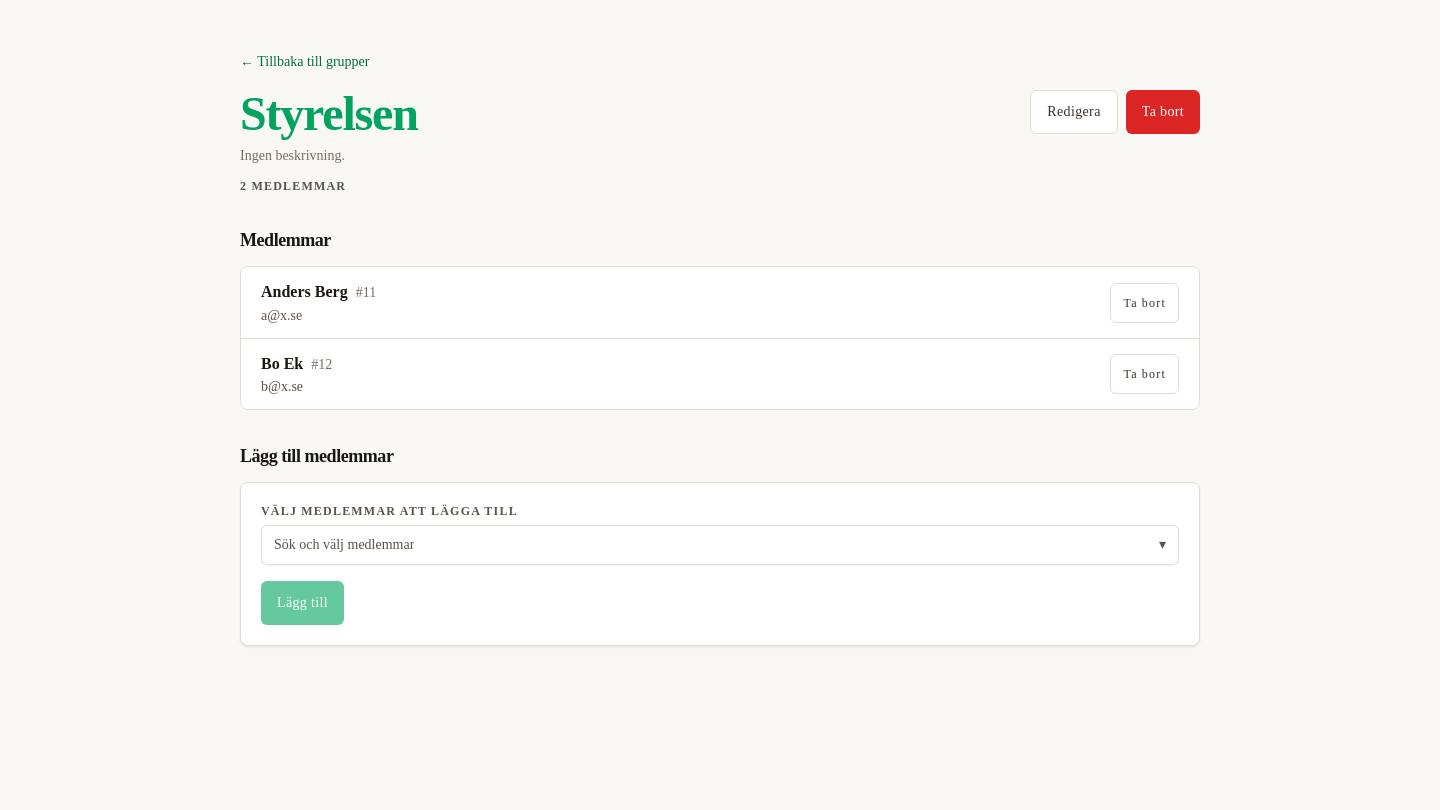
Scenario: GroupDetail confirmations › confirms before removing a member
The image size is (1440, 810).
Click the button with aria-label "Ta bort Bo Ek ur gruppen" at (1145, 374), box [1110,354,1179,394]
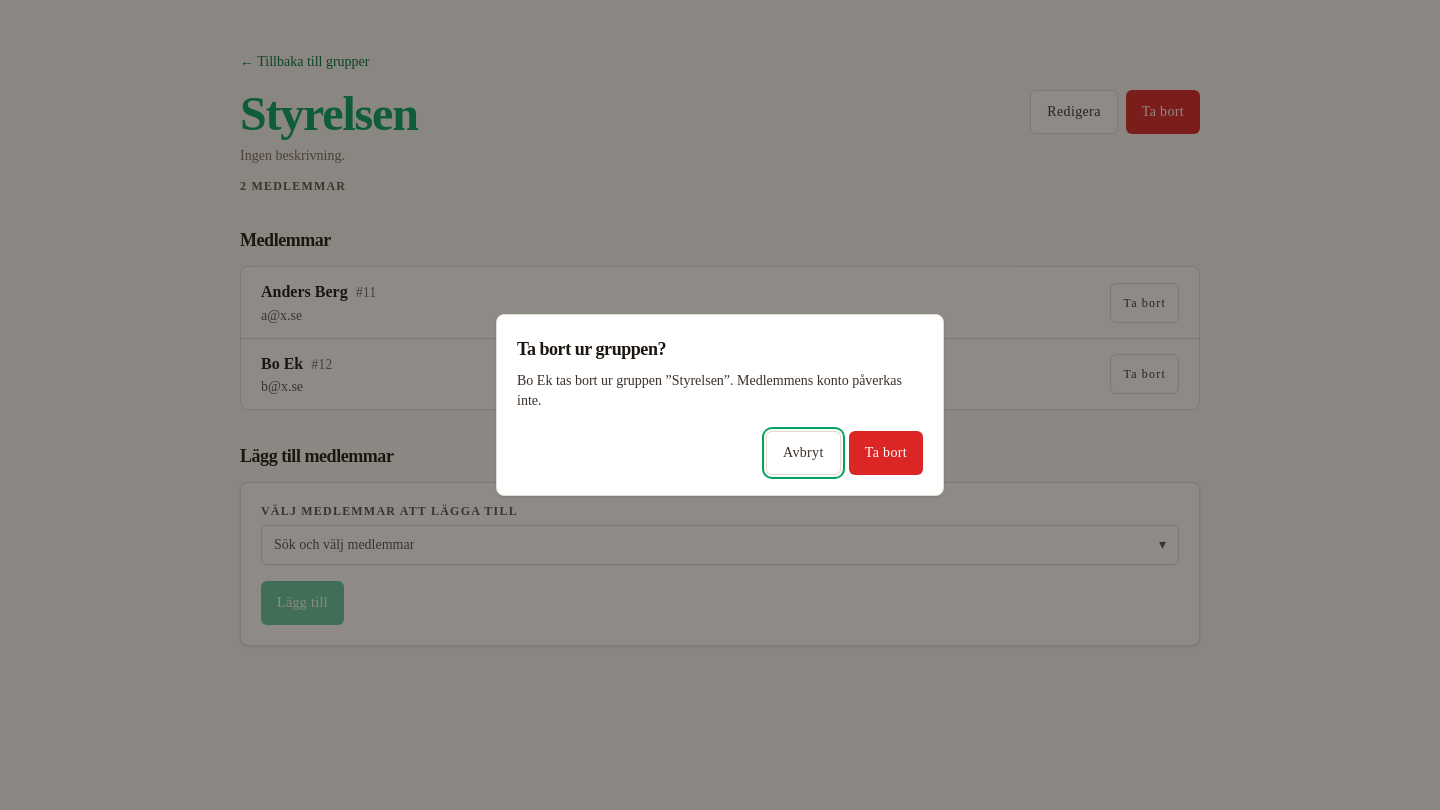
Result: the dialog "Ta bort ur gruppen?" shows "Bo Ek tas bort ur gruppen ”Styrelsen”" at [517,373,902,408]
Click the button "Ta bort" at (886, 453), box [849,431,923,475]
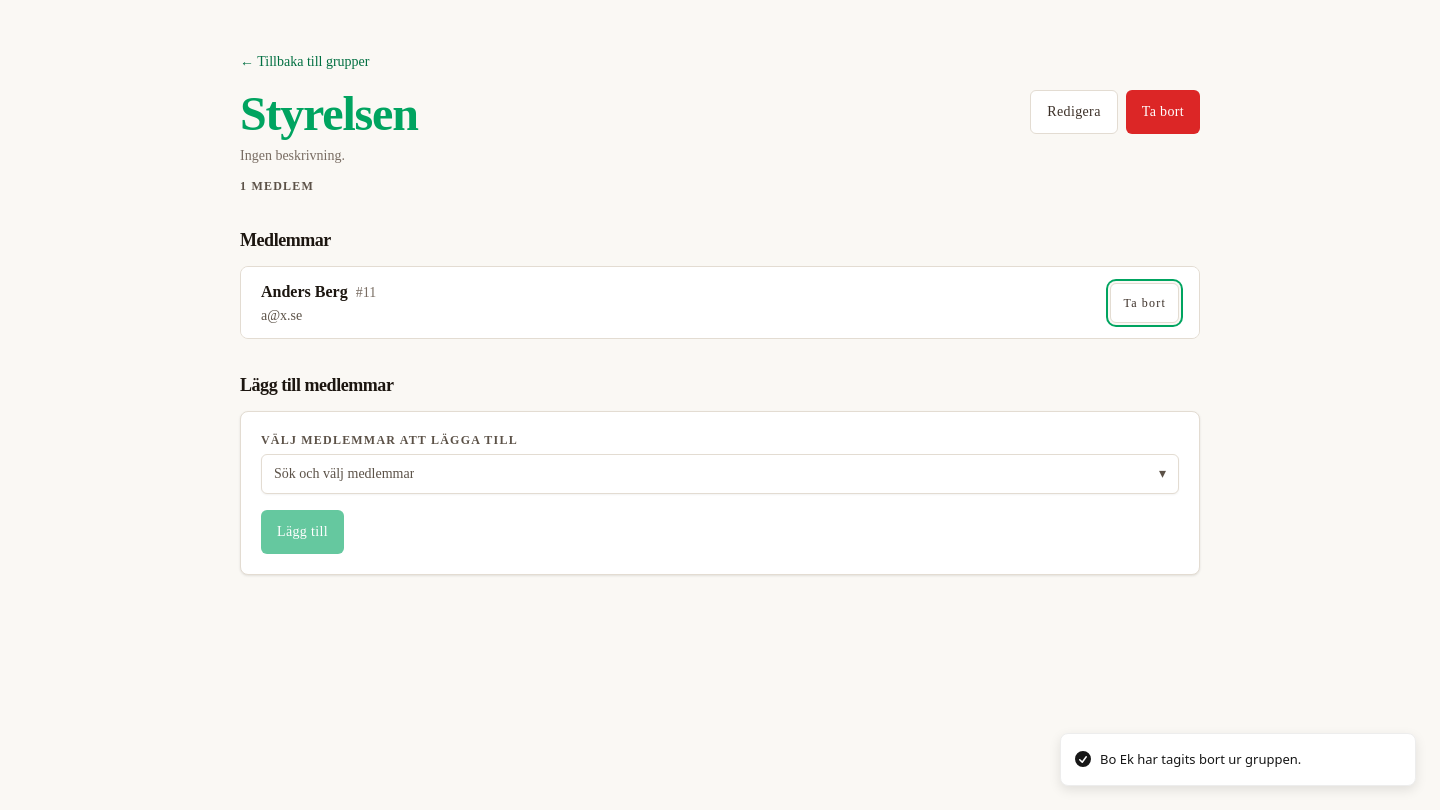
Result: the text "Bo Ek har tagits bort ur gruppen." is shown at [1100,750,1301,769]
Result: the dialog is gone
